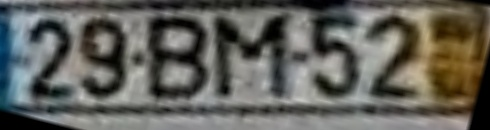2: (361, 13, 426, 104), (22, 17, 76, 103)
5: (304, 15, 363, 104)
9: (77, 15, 129, 104)
B: (145, 16, 212, 103)
M: (208, 16, 293, 103)
